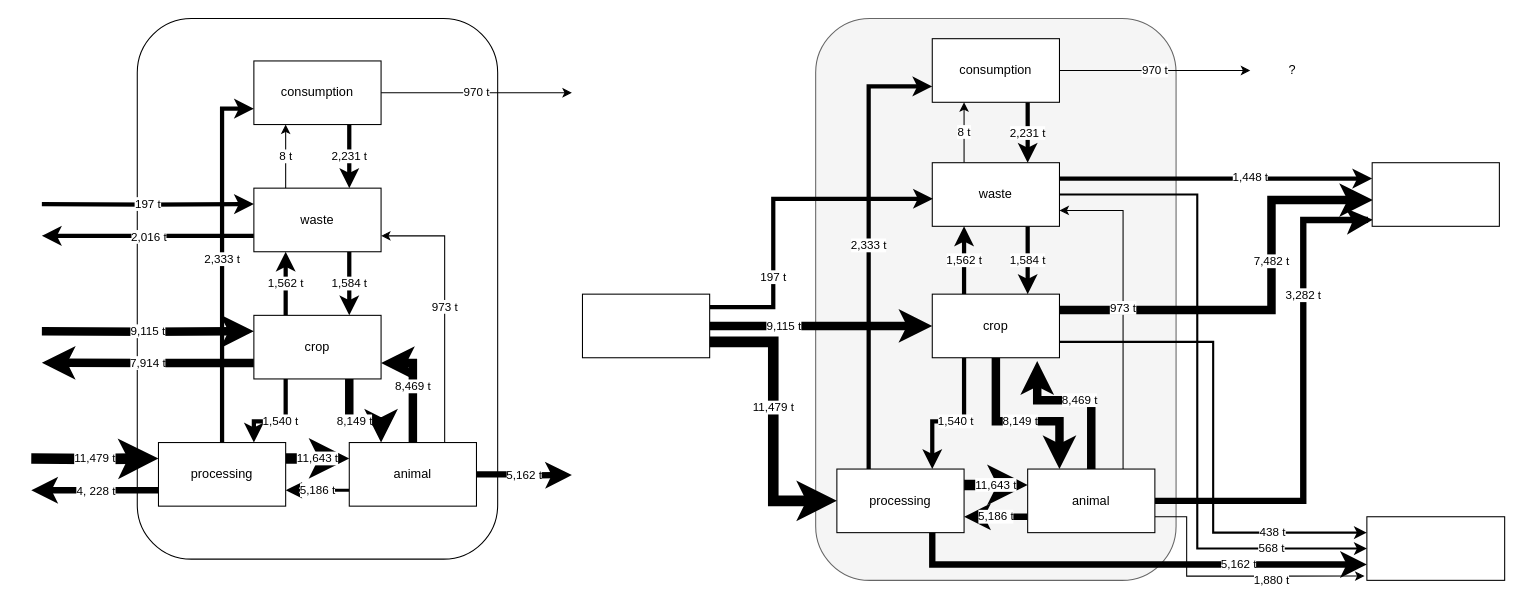
Some shapes in this 1523 by 606 pixel diagram are drawn without their labels. Here are the shapes that lost their labels. From the top down, the centre of each, then its label:
(x=1435, y=194): environment
(x=645, y=325): import
(x=1435, y=548): export
